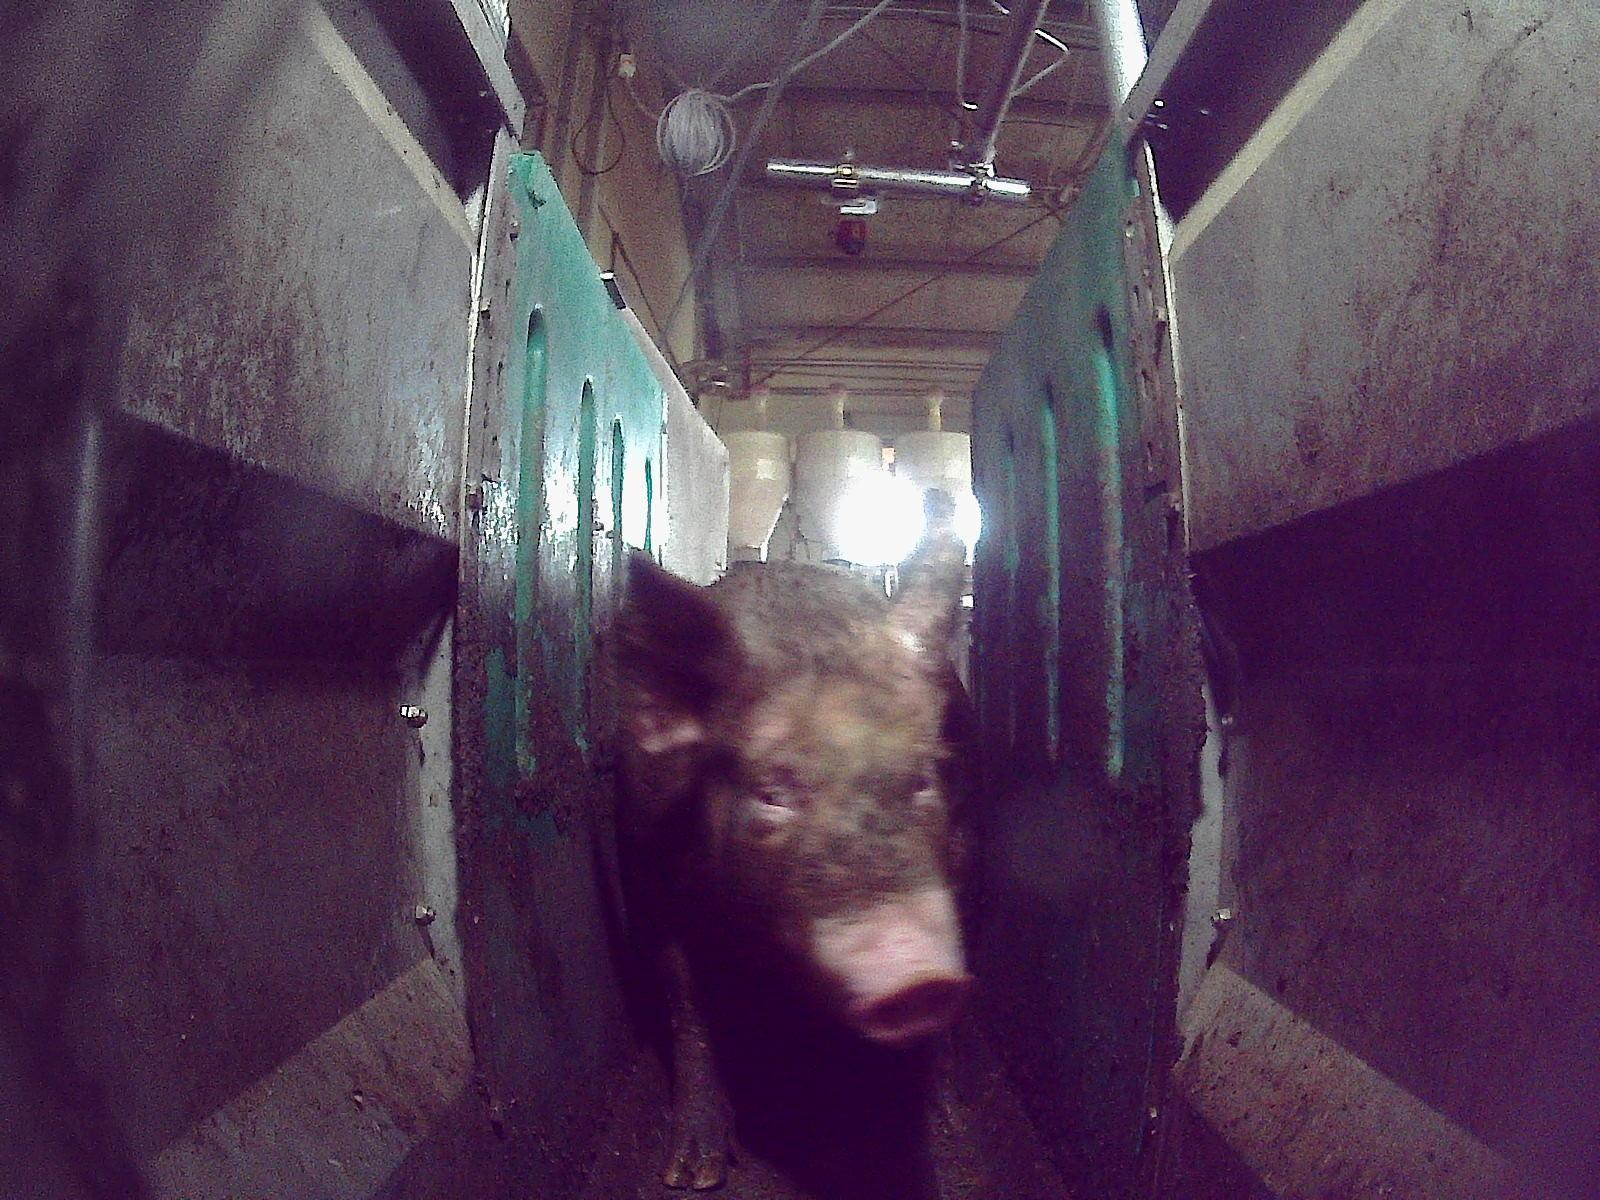Face: (669, 638, 976, 1039)
